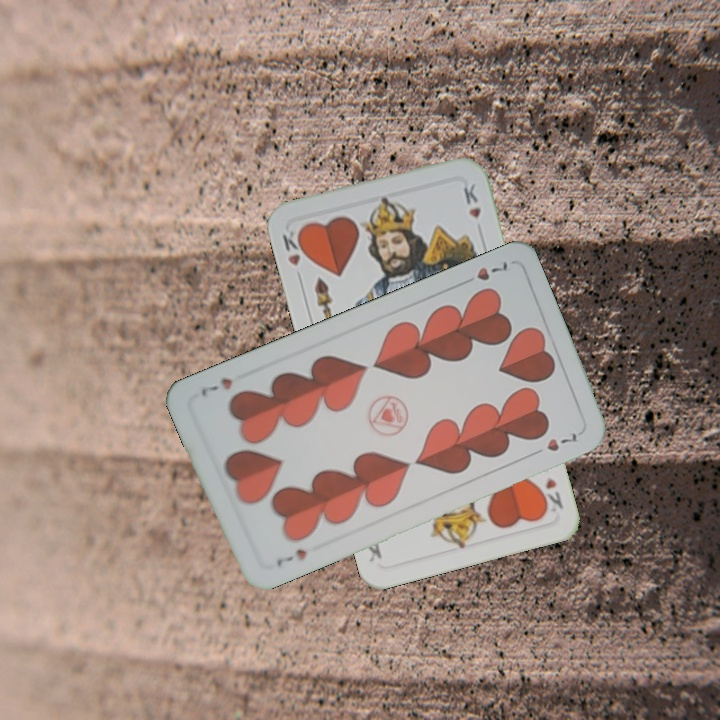H7: (456, 258, 510, 288), (272, 544, 309, 569)
HK: (278, 224, 309, 269), (535, 473, 566, 515)
